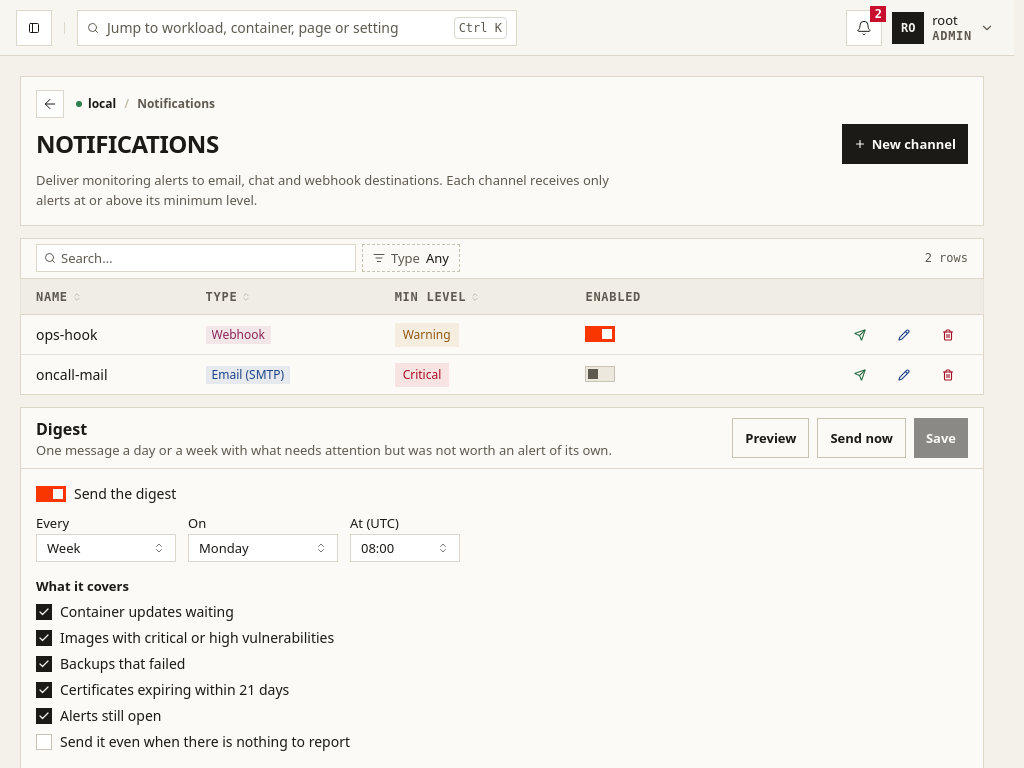
Test: digest card › shows the last send and reports errors
Step 1. Click the 3rd switch labelled "Send the digest" → (106, 494), box top-left (36, 484), bottom-right (176, 503)
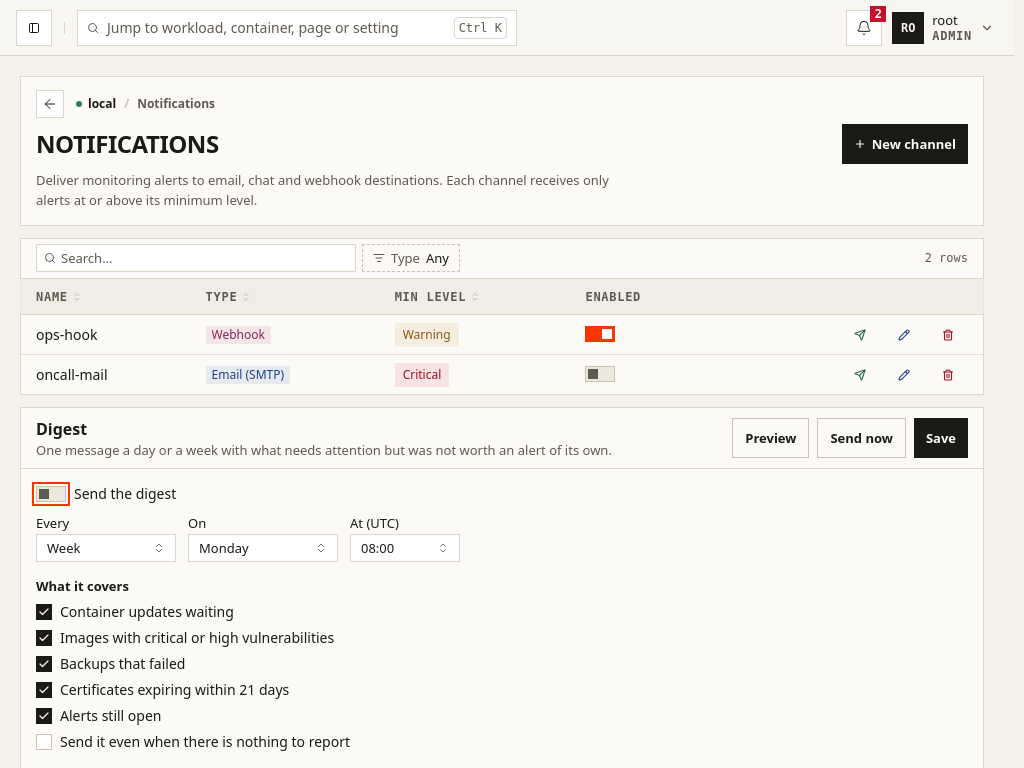
Step 2. Click the button "Save" → (941, 438), box top-left (914, 418), bottom-right (968, 458)
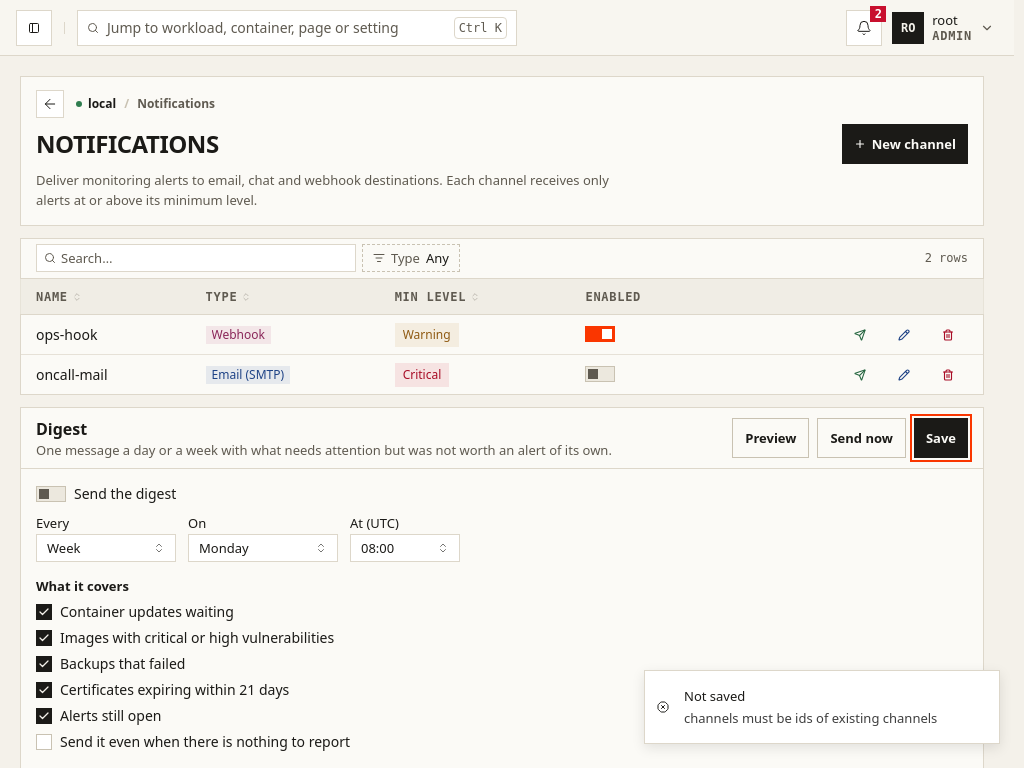
Now the text "channels must be ids of existing channels" is shown, box top-left (684, 709), bottom-right (937, 727)
Step 3. Click the button "Preview" → (771, 438), box top-left (732, 418), bottom-right (810, 458)
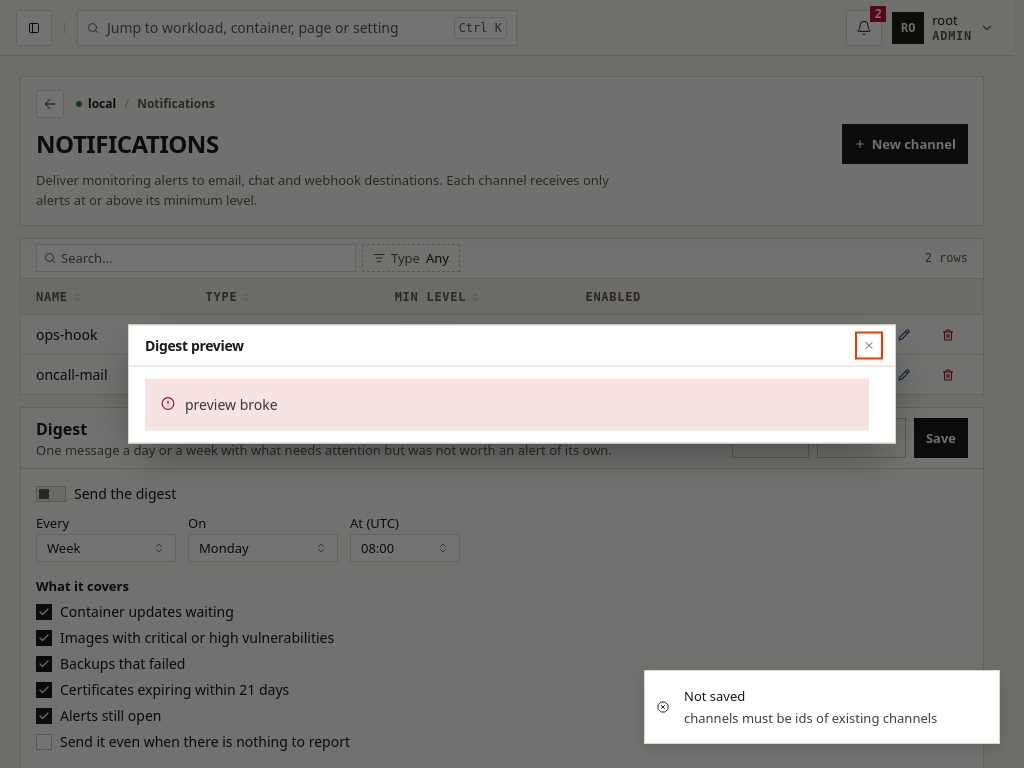
Now the text "preview broke" is shown, box top-left (185, 394), bottom-right (278, 414)
